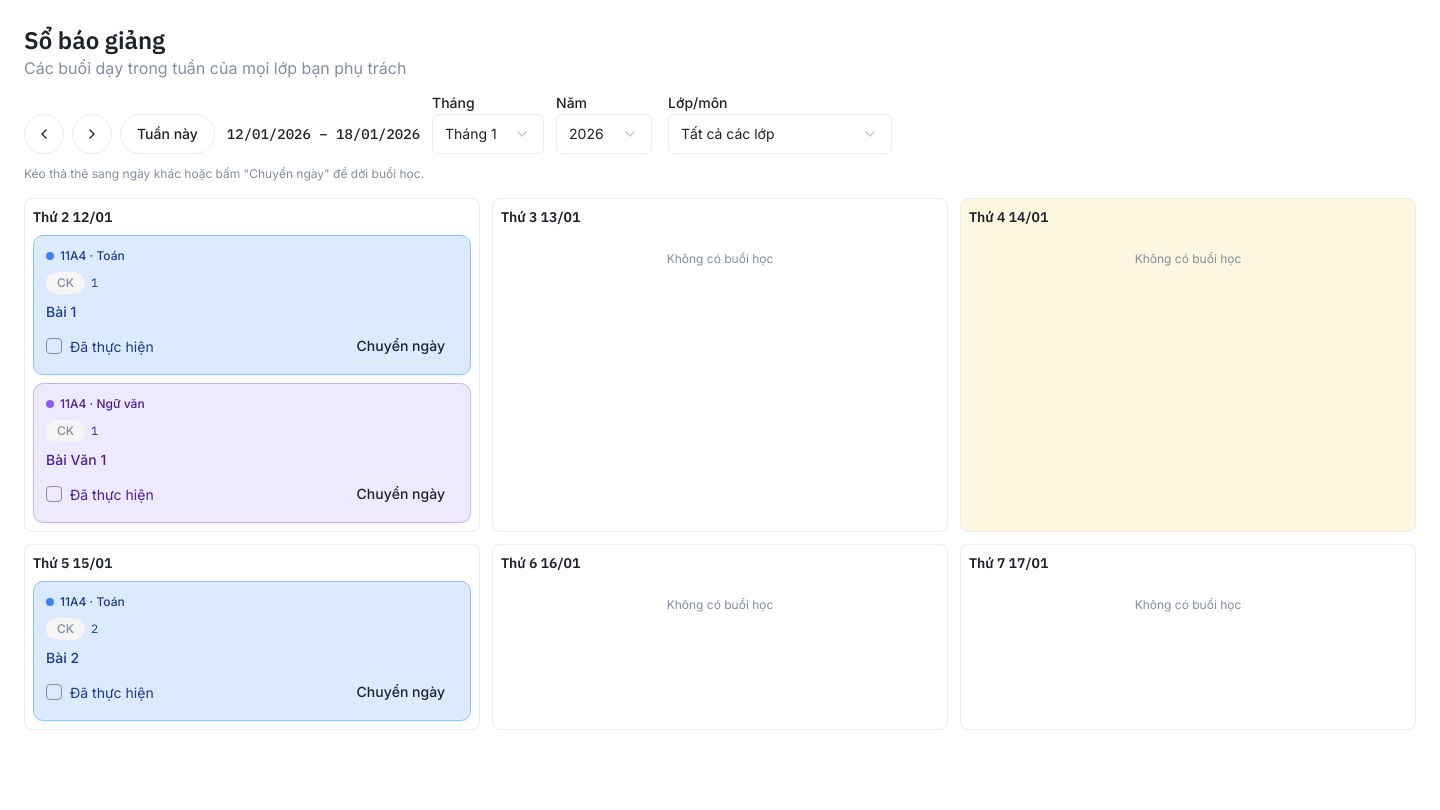
Test: tích, kéo-thả và chuyển ngày › chuyển ngày bị 409 → message nguyên văn trong hộp thoại (một lần), hộp thoại giữ, bảng không đổi
Click the button "Chuyển ngày" below "Bài Văn 1" at (401, 494), box [344,478,458,510]
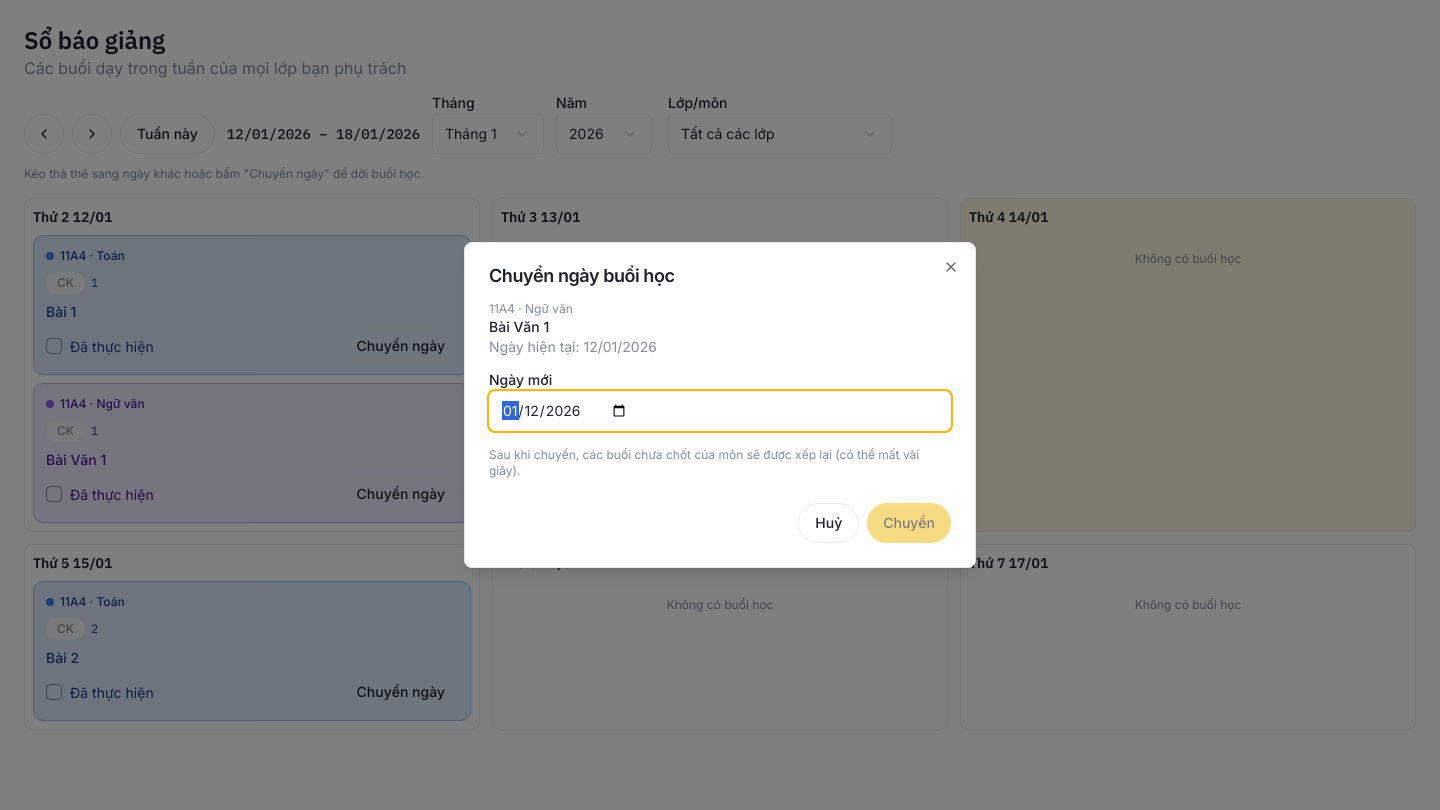
Type "2026-01-15" into the date field labelled "Ngày mới" at (720, 411), box [489,391,951,431]
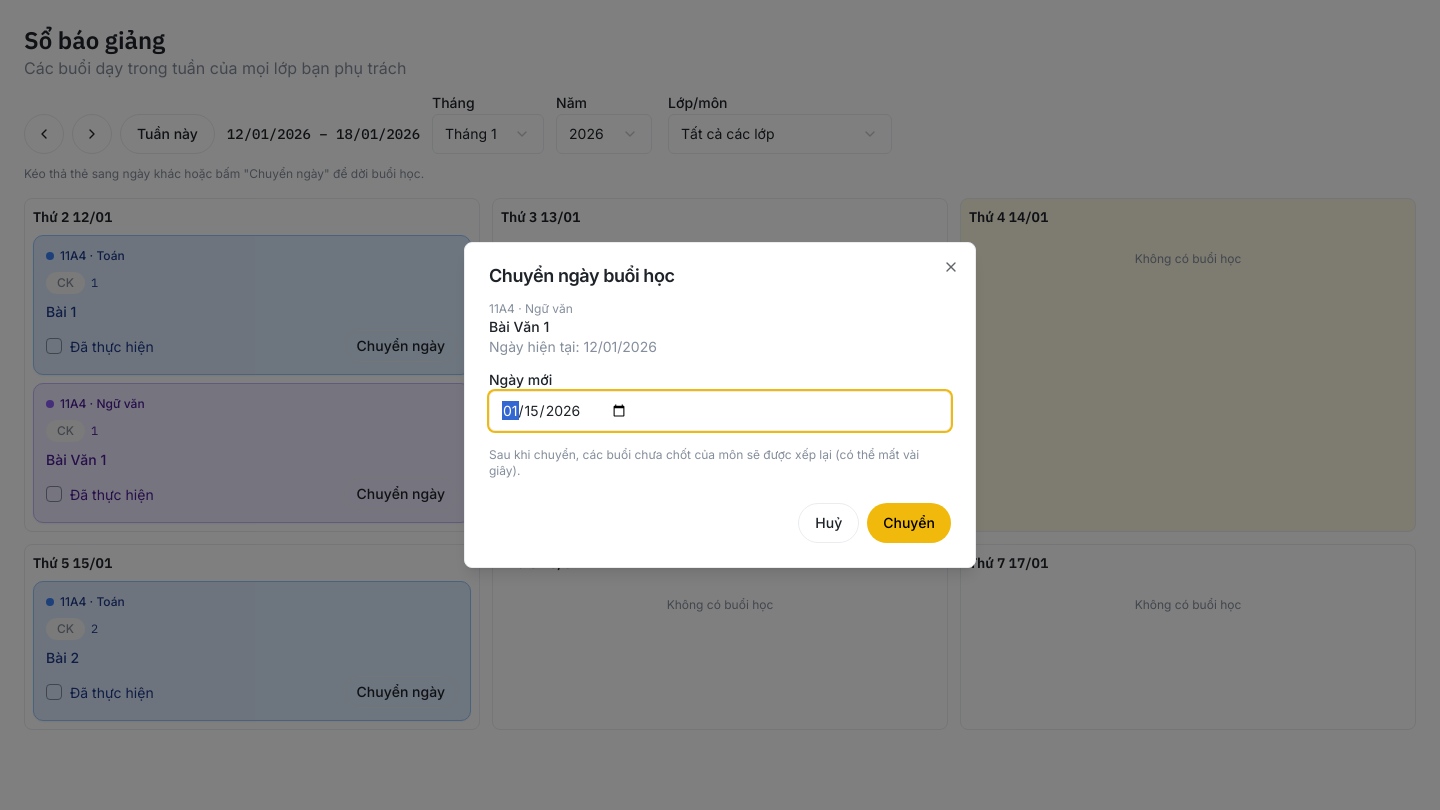
Click the button "Chuyển" at (909, 523), box [867,503,951,543]
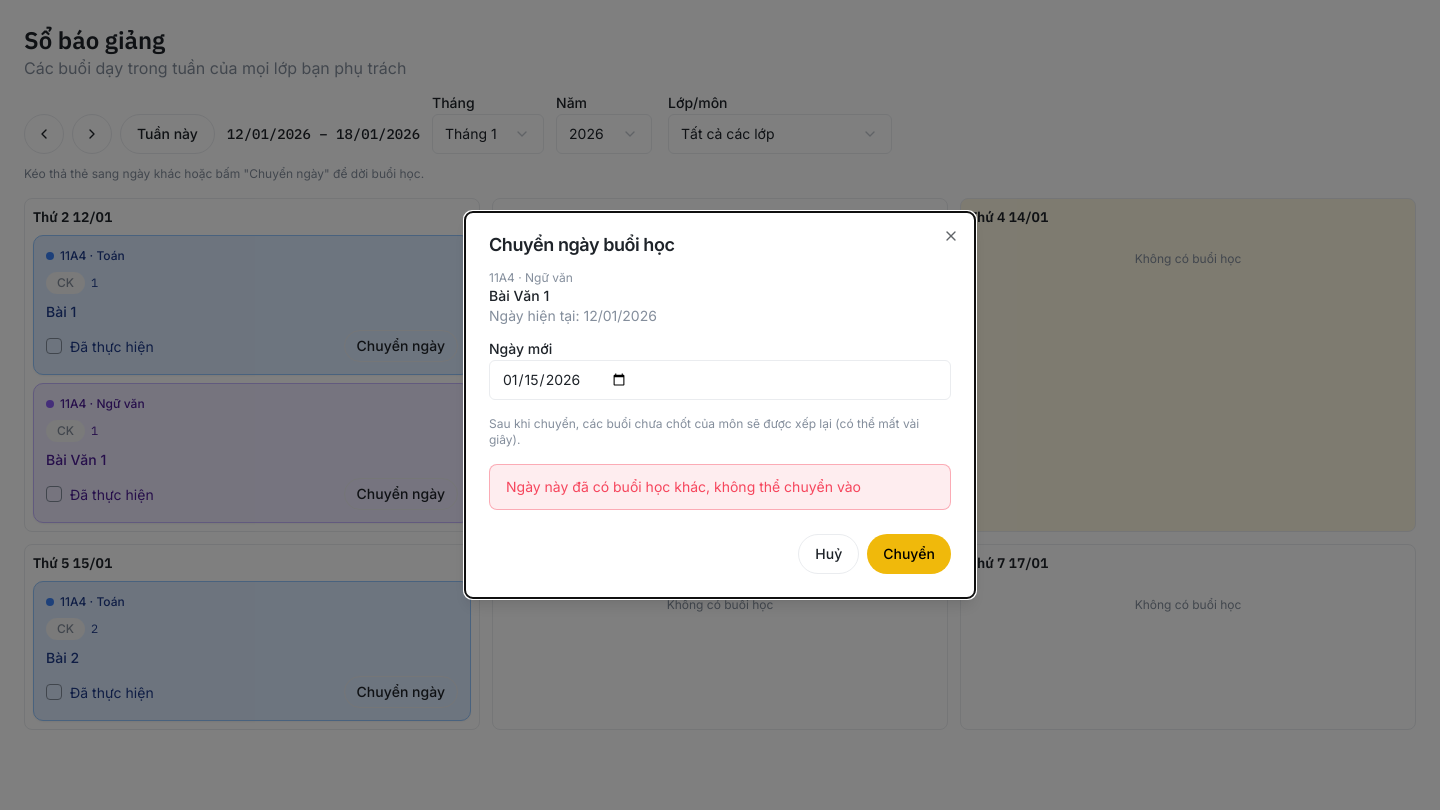
Expected: the element showing "11A4 · Ngữ văn CK 1 Bài Văn 1 Đã thực hiện Chuyển ngày" is shown, [33,383,471,523]
Now the text "Ngày này đã có buổi học khác, không thể chuyển vào" is shown once, box [506,478,861,495]
